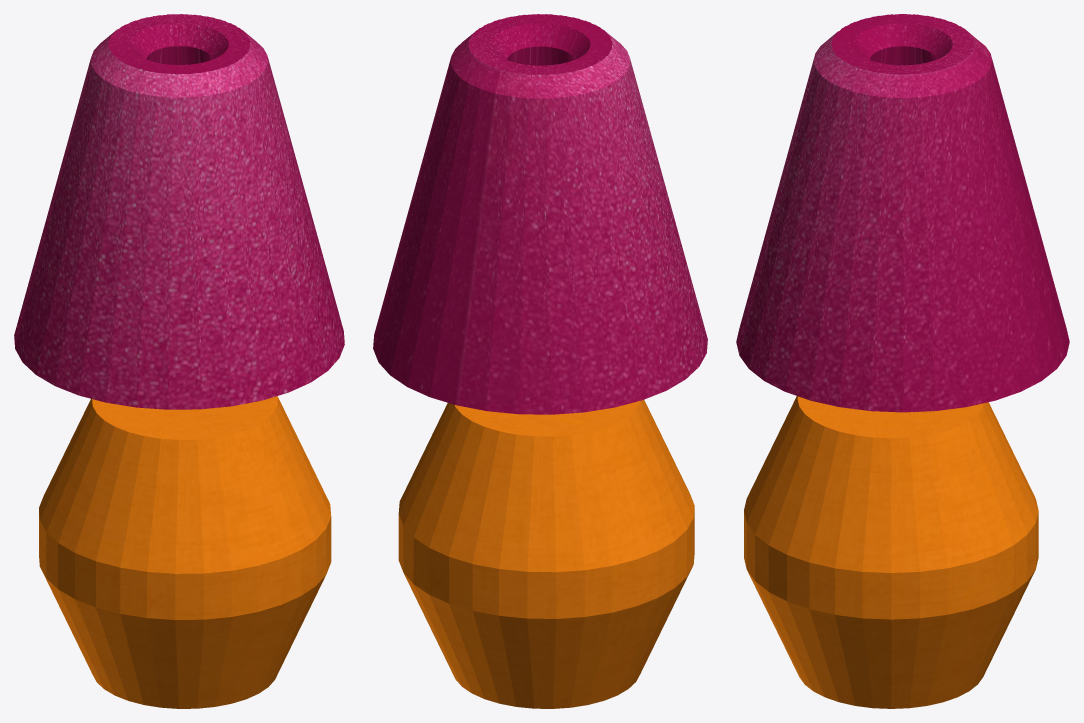
File: lampara.obj
3 renders of one model, left to right at view 1: azimuth 30°, elevation 25°; view 2: azimuth 150°, elevation 25°; view 3: azimuth 270°, elevation 25°, orthographic.
Visible parts, largest first — view 1: Cilindro.002_Cilindro.004; view 2: Cilindro.002_Cilindro.004; view 3: Cilindro.002_Cilindro.004.
Boxes of the visible parts, x1,y1,x2,y2 form: Cilindro.002_Cilindro.004: [14, 14, 344, 708]; Cilindro.002_Cilindro.004: [373, 14, 707, 708]; Cilindro.002_Cilindro.004: [736, 14, 1069, 708].
Size of the model in its own units: 5.98 by 12.37 by 5.98.
3 materials, 3 textured.
